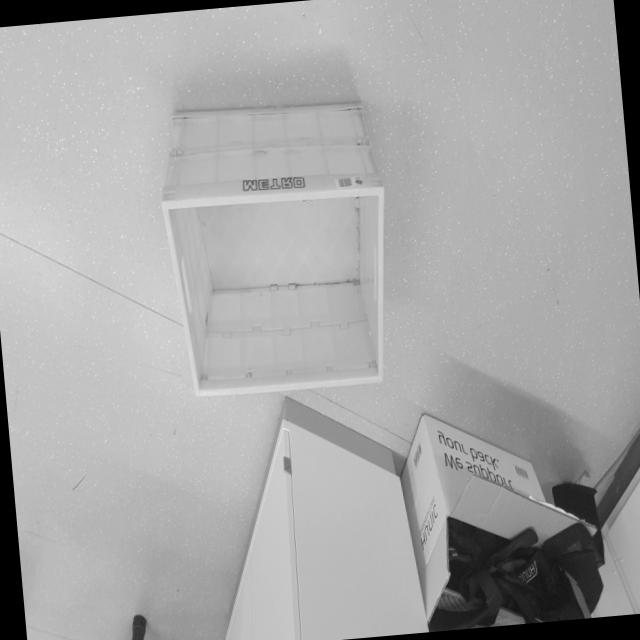box: (142, 84, 411, 410)
